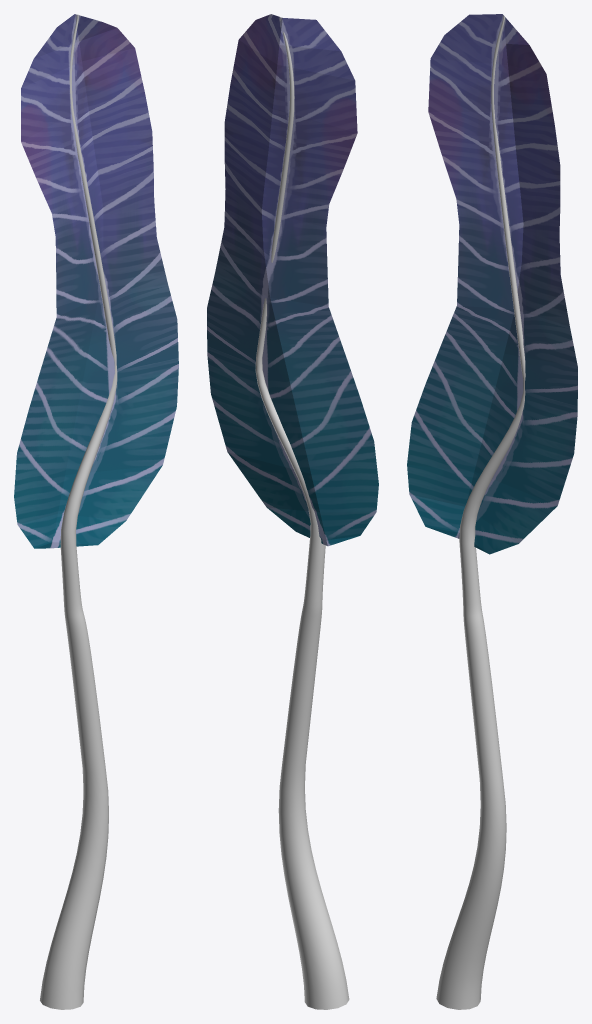
The model's file is tige2.fbx.
3 views of the same model, side by side, from view 1: azimuth 30°, elevation 25°; view 2: azimuth 150°, elevation 25°; view 3: azimuth 330°, elevation 25° (orthographic).
Visible parts, largest first — view 1: Plane.098, BezierCurve.026; view 2: Plane.098, BezierCurve.026; view 3: Plane.098, BezierCurve.026.
Boxes of the visible parts, x1,y1,x2,y2 form: Plane.098: (14, 14, 178, 548); BezierCurve.026: (40, 14, 117, 1009); Plane.098: (207, 14, 378, 546); BezierCurve.026: (255, 17, 349, 1009); Plane.098: (407, 14, 577, 554); BezierCurve.026: (436, 15, 525, 1009).
Size of the model in its own units: 134 by 746 by 36.47.
Materials: 1 (1 with a texture image).
